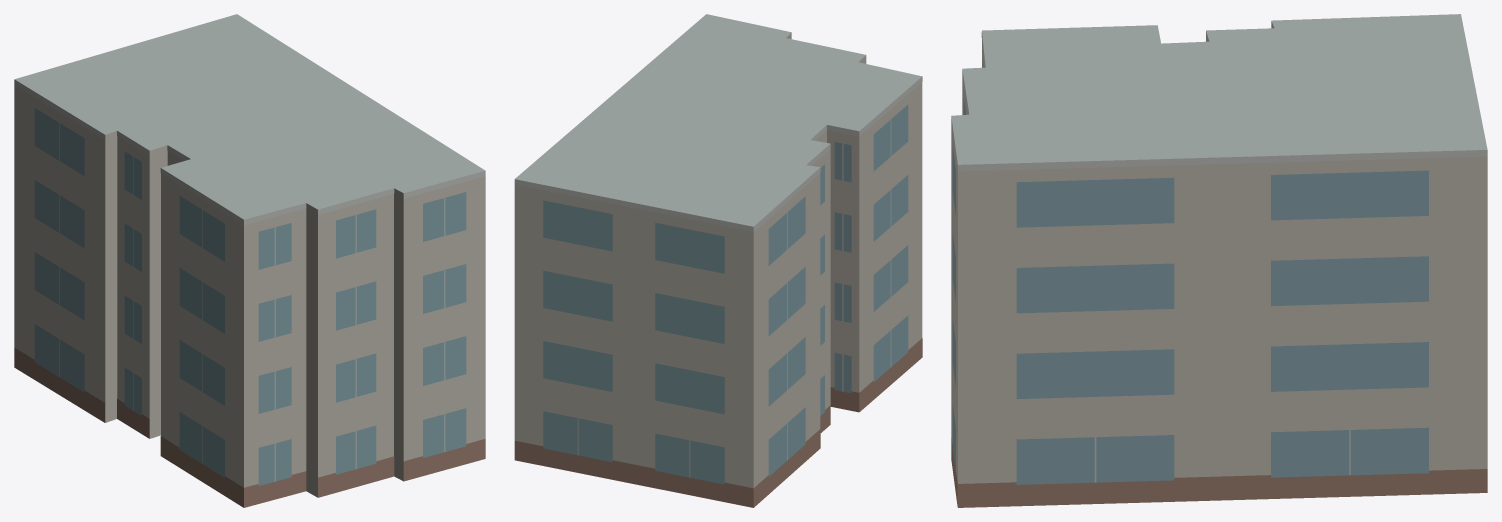
The model's file is survey-upis-32775779.glb.
The picture shows the model from 3 angles, left to right: view 1: azimuth 30°, elevation 25°; view 2: azimuth 150°, elevation 25°; view 3: azimuth 270°, elevation 25°; orthographic projection. The views are drawn at different scales.
Parts seen in each view (by area): view 1: survey-upis-32775779.tmp; view 2: survey-upis-32775779.tmp; view 3: survey-upis-32775779.tmp.
Boxes of the visible parts, x1,y1,x2,y2 form: survey-upis-32775779.tmp: (14,14,485,507); survey-upis-32775779.tmp: (514,14,922,507); survey-upis-32775779.tmp: (951,14,1487,507).
Size of the model in its own units: 12.09 by 12.8 by 18.15.
